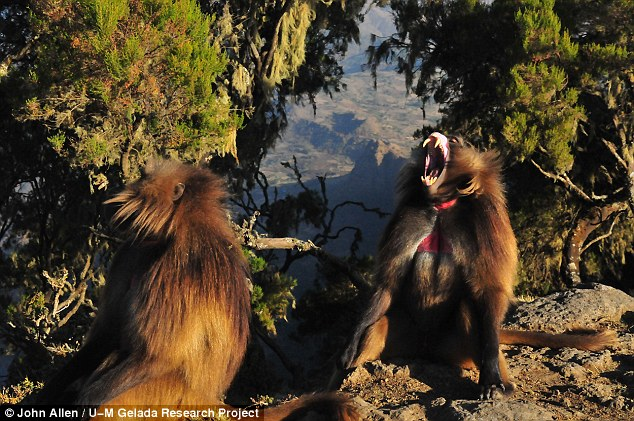Gelada: (341, 130, 526, 364), (73, 171, 244, 403)
